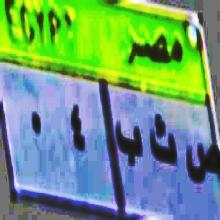0: (29, 106, 43, 139)
4: (70, 106, 86, 154)
baa: (115, 116, 143, 173)
saad: (185, 132, 220, 185)
thaa: (148, 113, 177, 172)
